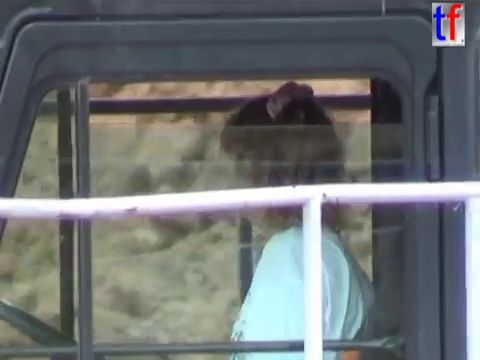truck: (1, 1, 480, 360)
worker: (213, 79, 381, 360)
